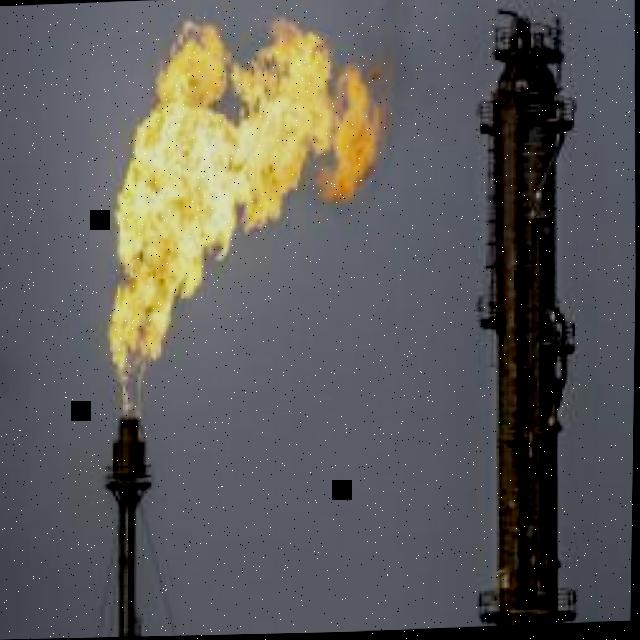fire: (109, 16, 391, 408)
